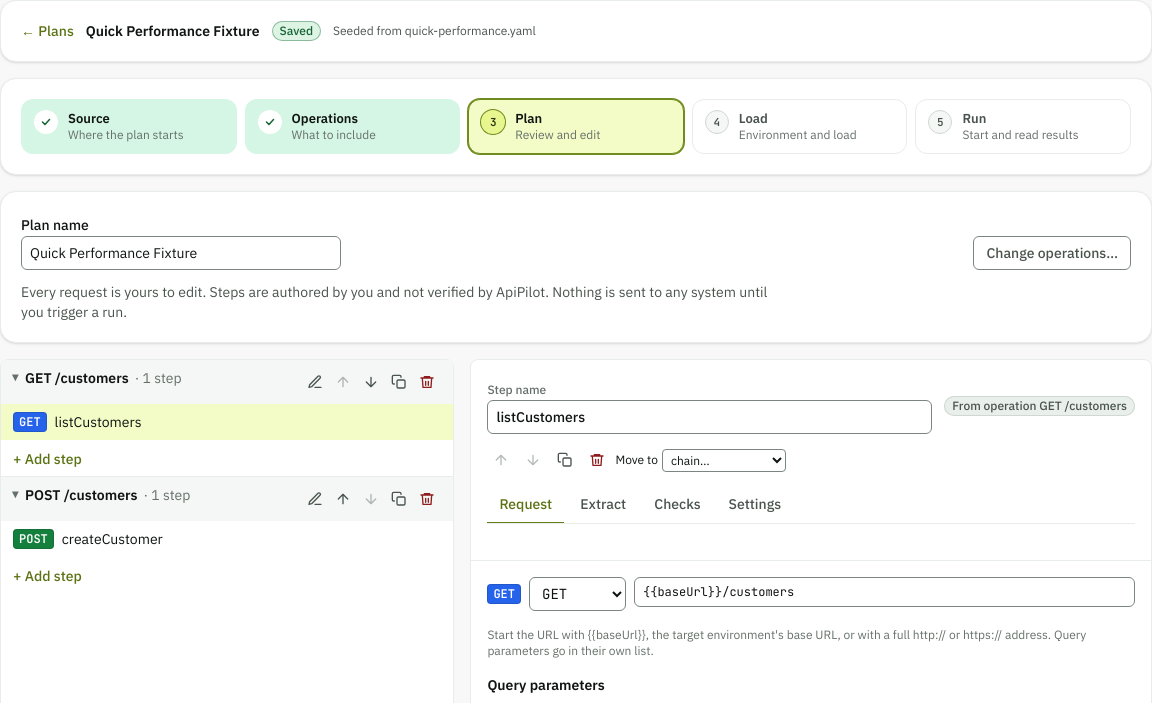
it: Change operations on the Plan step › reloads the plan and says so when it was changed elsewhere
The image size is (1152, 703).
Expected: the field labelled "Plan name" is shown, left=21, top=236, right=341, bottom=270
What coordinates should you click on to do the following:
click the button "Change operations…"
I would click on:
 (1052, 253)
Its box is left=973, top=236, right=1131, bottom=270.
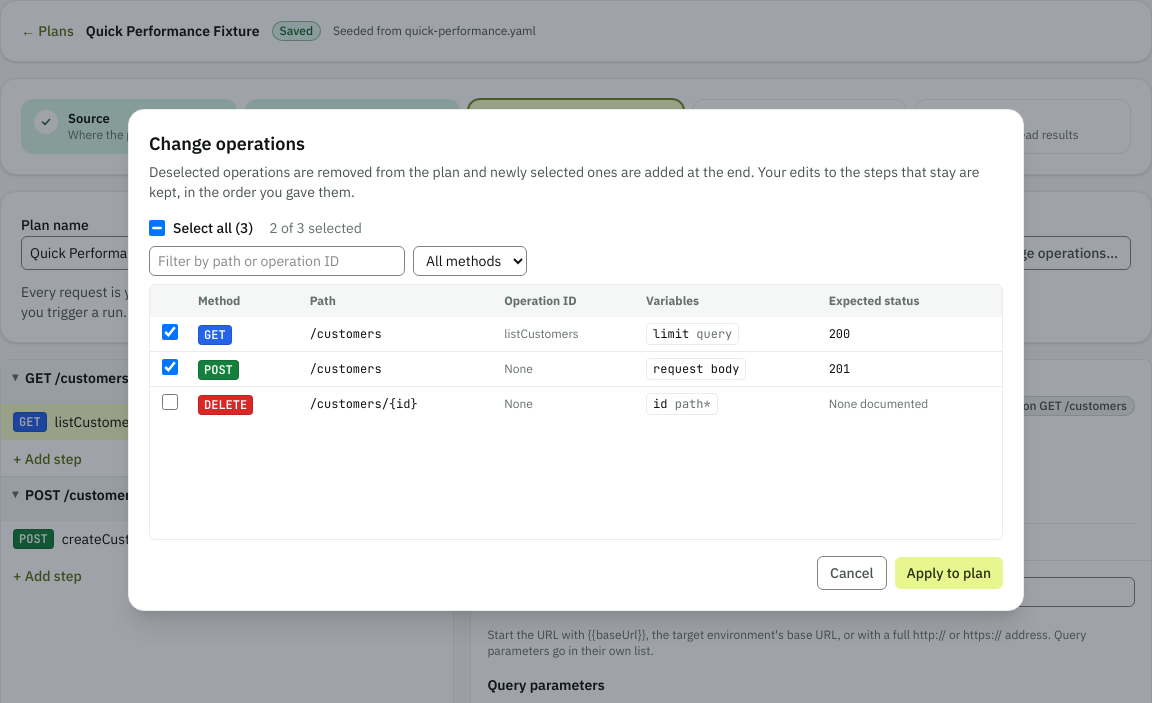
What coordinates should you click on to do the following:
click the checkbox named "DELETE /customers/{id}"
I would click on:
 (170, 402)
Its box is left=162, top=394, right=178, bottom=410.
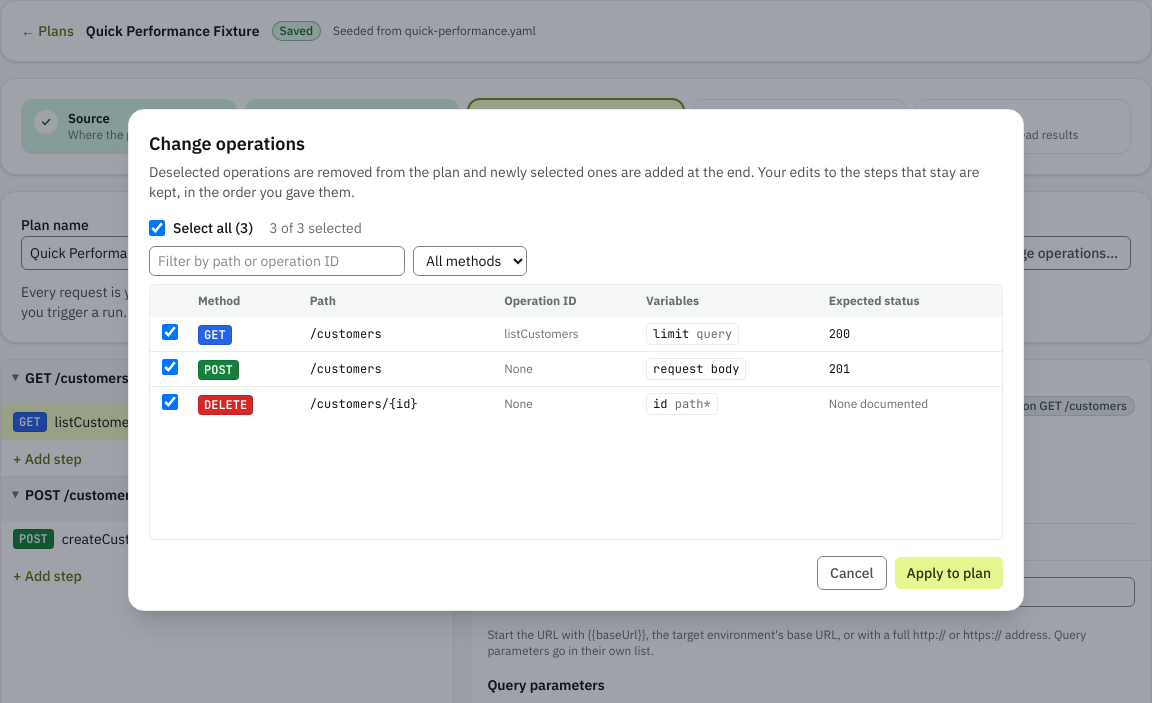
What coordinates should you click on to do the following:
click the button "Apply to plan"
I would click on:
 (949, 573)
Its box is left=894, top=557, right=1003, bottom=589.
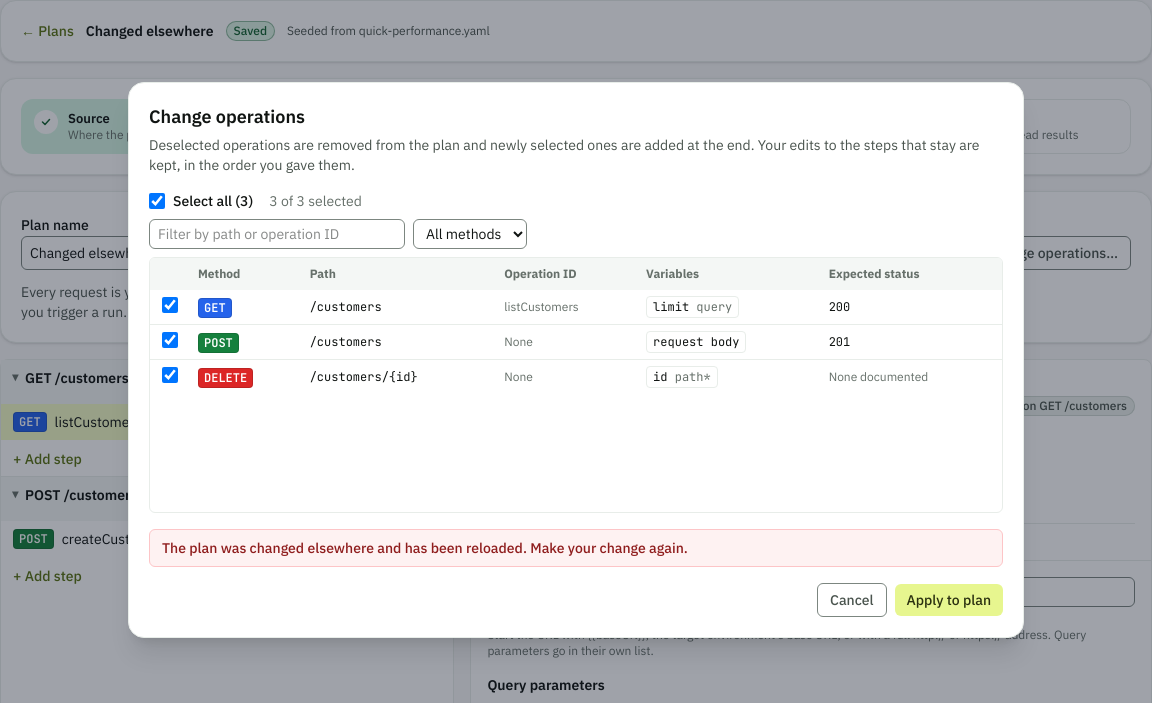
Now the message with test id "change-operations-error" reads "The plan was changed elsewhere and has been reloaded. Make your change again.", box left=162, top=539, right=688, bottom=557
Now the text with test id "path-title" reads "Changed elsewhere", box left=86, top=22, right=214, bottom=40
